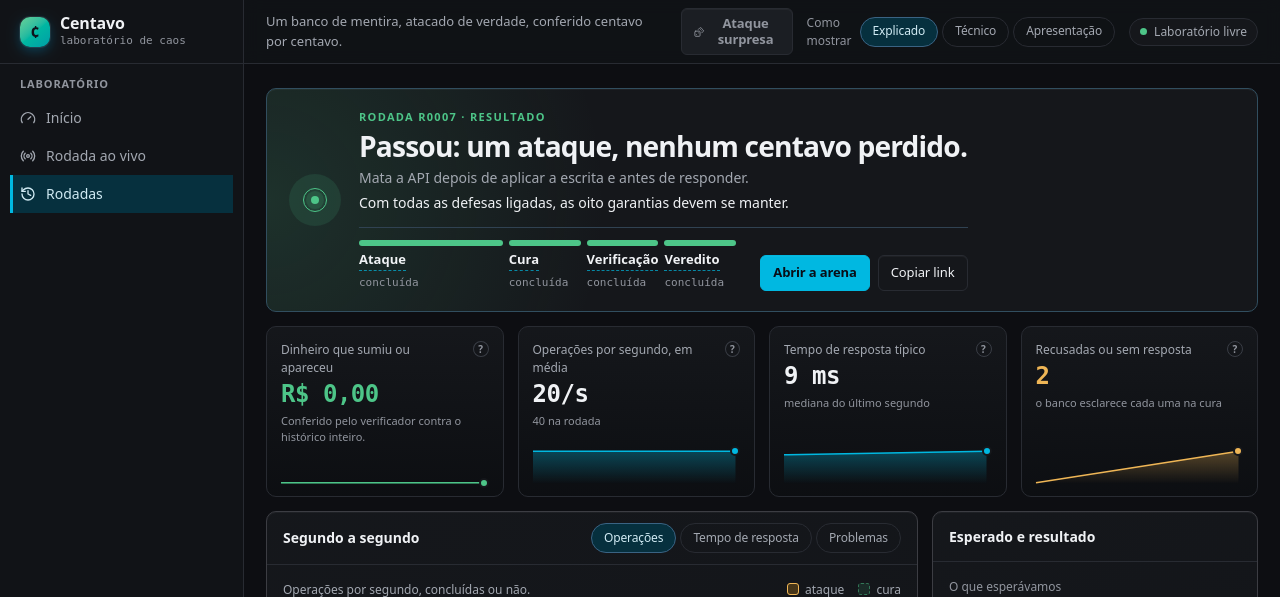
the round page › shows the technical details only in the technical mode, and remembers it
The width and height of the screenshot is (1280, 597).
Click the button "Técnico".
click(976, 32)  # box [942, 16, 1009, 46]
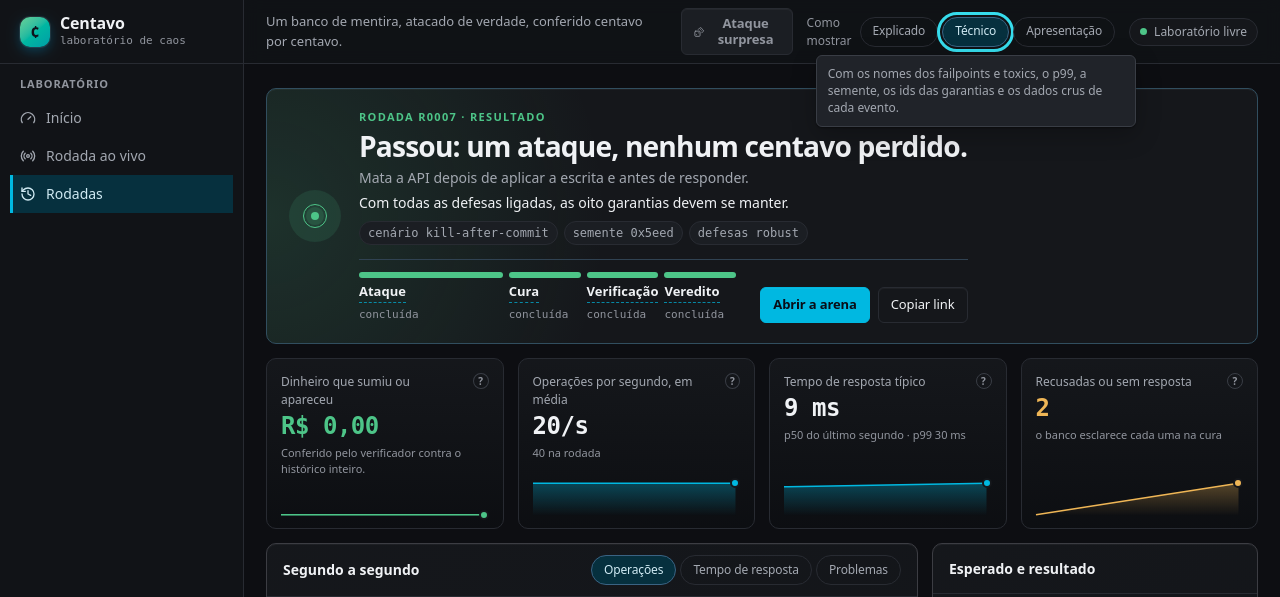
Now the text "semente 0x5eed" is shown, box [564, 221, 683, 245]
